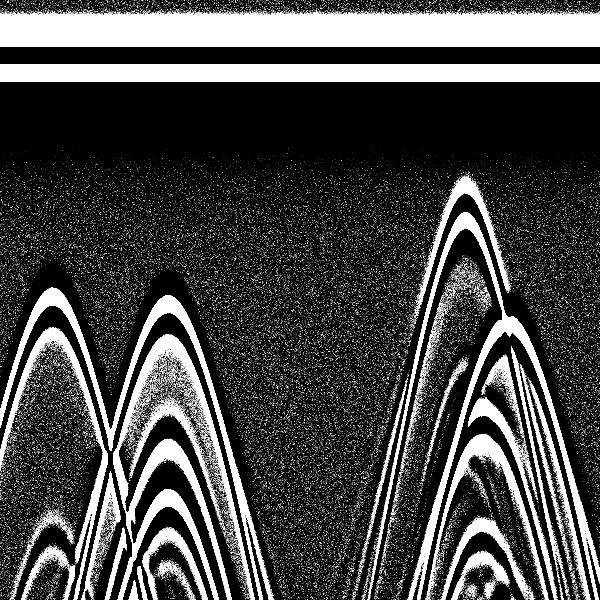pipe: (456, 4, 560, 417), (1, 6, 104, 373), (117, 5, 219, 372), (417, 5, 508, 275)
